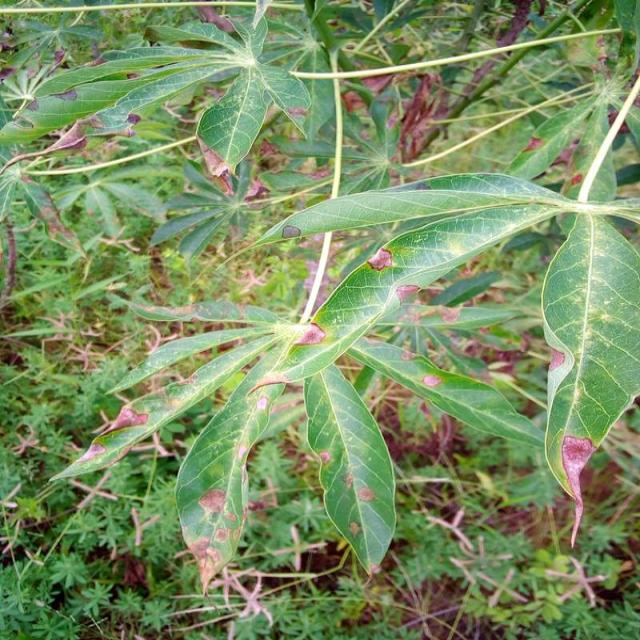cassava leaf: (540, 206, 638, 547), (174, 339, 291, 594), (302, 361, 397, 576)
